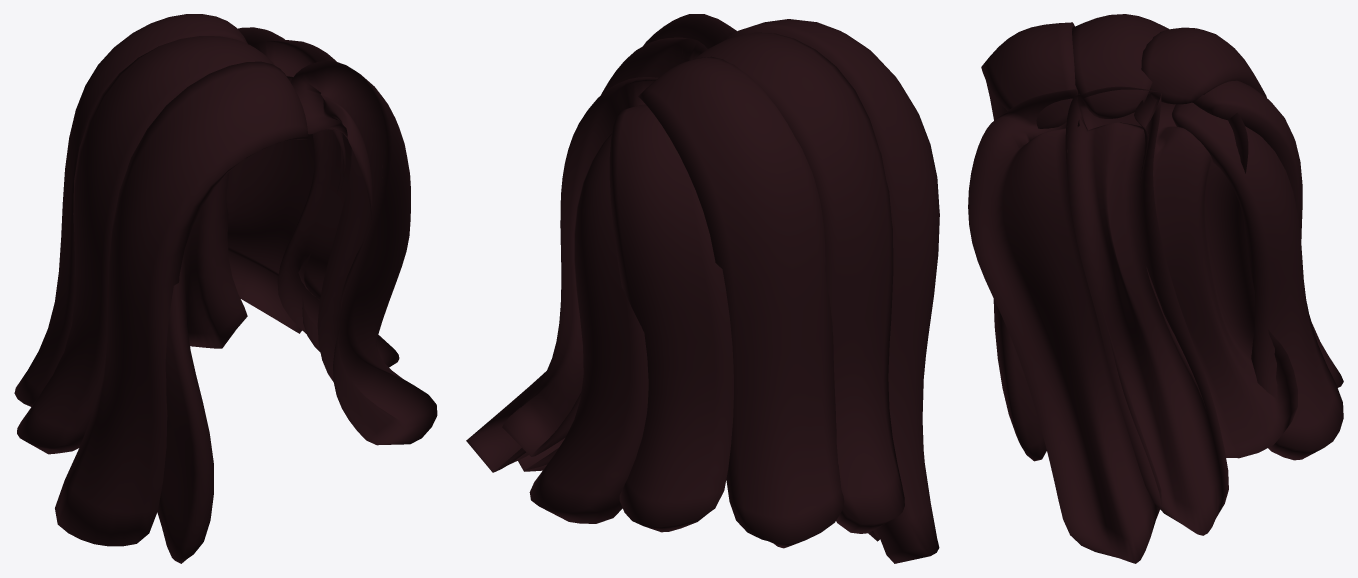
File: hair4.fbx
The picture shows the model from 3 angles, left to right: view 1: azimuth 30°, elevation 25°; view 2: azimuth 150°, elevation 25°; view 3: azimuth 270°, elevation 25°; orthographic projection. The views are drawn at different scales.
Visible parts, largest first — view 1: Head2_HairBand01, Head2_HairBand09, Head2_HairBand02, Head2_HairBand04, Head2_HairBand03, Head2_HairBand05, Head2_HairBand06, Head2_HairBand08; view 2: Head2_HairBand06, Head2_HairBand07, Head2_HairBand02, Head2_HairBand01, Head2_HairBand08, Head2_HairBand04, Head2_HairBand03, Head2_HairBand09; view 3: Head2_HairBand09, Head2_HairBand03, Head2_HairBand04, Head2_HairBand08, Head2_HairBand02, Head2_HairBand01, Head2_HairBand06, Head2_HairBand07, Head2_HairBand05.
Part boxes in pixels (x1,y1,x2,y2): Head2_HairBand01: [55, 61, 308, 546]; Head2_HairBand09: [291, 61, 437, 445]; Head2_HairBand02: [17, 36, 274, 454]; Head2_HairBand04: [226, 27, 343, 333]; Head2_HairBand03: [251, 40, 399, 367]; Head2_HairBand05: [157, 250, 213, 563]; Head2_HairBand06: [14, 14, 247, 406]; Head2_HairBand08: [184, 172, 247, 348]; Head2_HairBand06: [638, 56, 844, 548]; Head2_HairBand07: [609, 104, 733, 532]; Head2_HairBand02: [693, 32, 904, 533]; Head2_HairBand01: [726, 19, 939, 563]; Head2_HairBand08: [529, 132, 648, 523]; Head2_HairBand04: [502, 77, 658, 456]; Head2_HairBand03: [466, 37, 707, 472]; Head2_HairBand09: [518, 14, 736, 471]; Head2_HairBand09: [968, 89, 1161, 563]; Head2_HairBand03: [1065, 86, 1228, 535]; Head2_HairBand04: [1134, 93, 1297, 458]; Head2_HairBand08: [1172, 102, 1343, 460]; Head2_HairBand02: [1072, 14, 1168, 118]; Head2_HairBand01: [981, 22, 1079, 128]; Head2_HairBand06: [1141, 27, 1266, 104]; Head2_HairBand07: [1192, 80, 1343, 387]; Head2_HairBand05: [993, 299, 1046, 461].
Size of the model in its own units: 7163 by 8346 by 6061.
